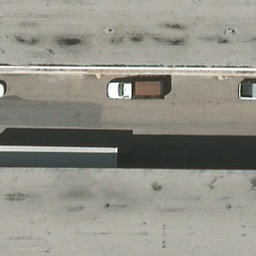car: (0, 83, 6, 99)
truck: (106, 83, 166, 102)
